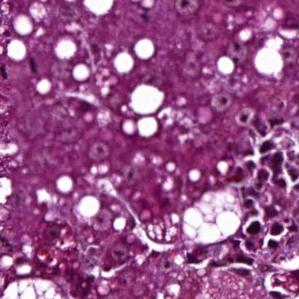ballooning: (179, 185, 245, 248), (0, 277, 70, 299)
